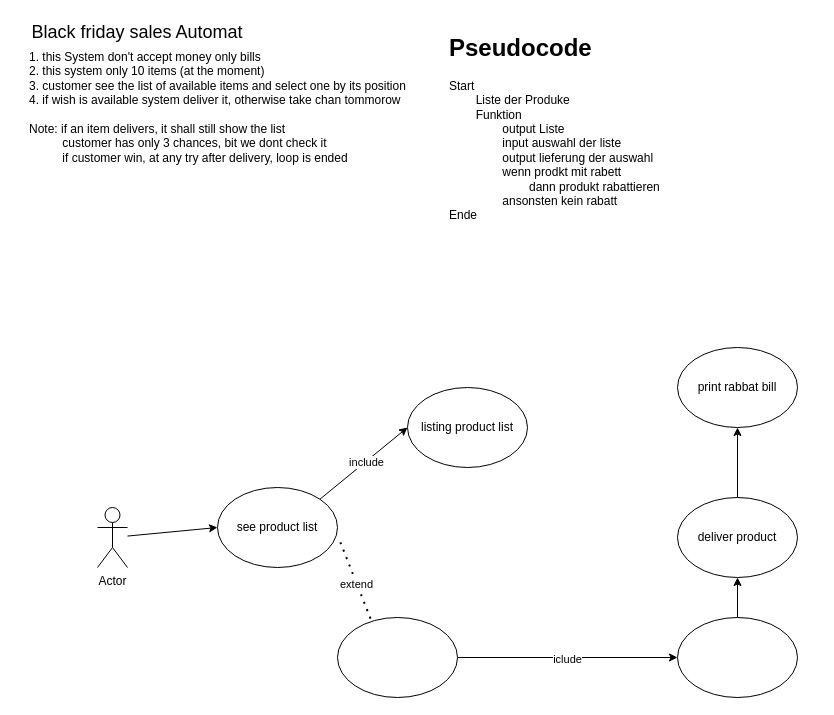
Image size: 834x715. Some labels were removed from this diagram. The shapes that lost their labels are listed below. From the top down, each one's box as (x1, y1, x2, y2) in pixels, then its label:
(336, 616, 458, 698): choose product
(676, 616, 798, 698): controll chance system
